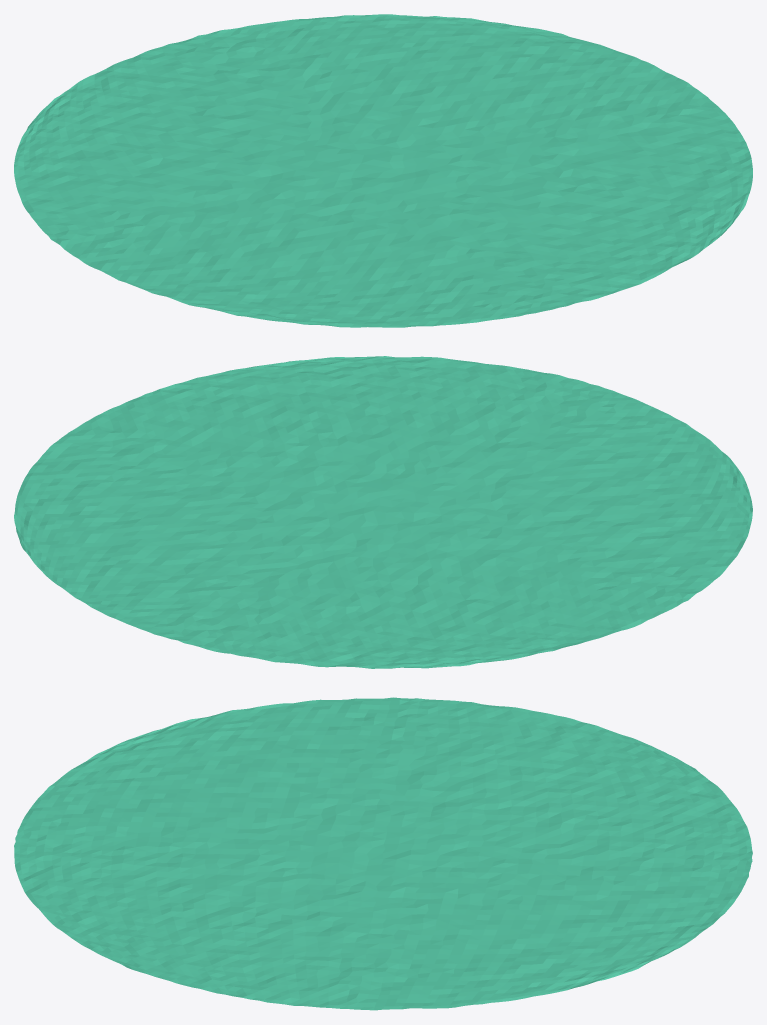
The model's file is world_4_terrain.dae.
3 views of the same model, one above another, from view 1: azimuth 30°, elevation 25°; view 2: azimuth 150°, elevation 25°; view 3: azimuth 270°, elevation 25° (orthographic).
Visible parts, largest first — view 1: Circle_001; view 2: Circle_001; view 3: Circle_001.
Part boxes in pixels (bbox=[...]): Circle_001: bbox=[14, 14, 752, 327]; Circle_001: bbox=[14, 356, 752, 668]; Circle_001: bbox=[14, 697, 752, 1010].
Size of the model in its own units: 127 by 128 by 0.4729.
